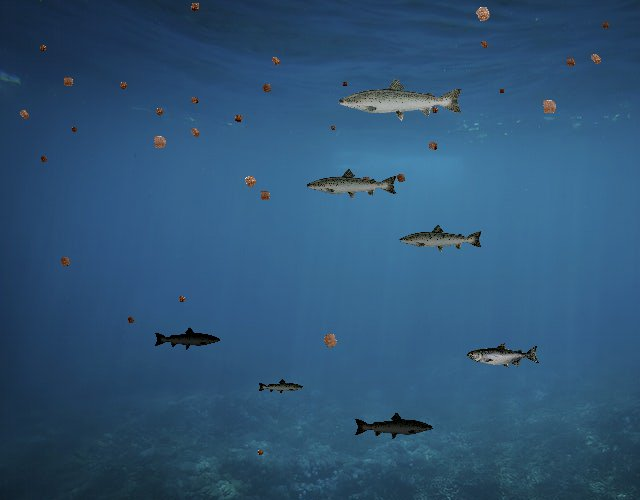Fish: (336, 76, 465, 122), (306, 168, 400, 201), (398, 223, 484, 254), (353, 411, 434, 441), (467, 343, 540, 369), (154, 327, 222, 351), (257, 379, 304, 396)
Pellet: (238, 169, 263, 194), (174, 292, 189, 307), (124, 313, 138, 327), (36, 41, 50, 55), (254, 447, 266, 459)
